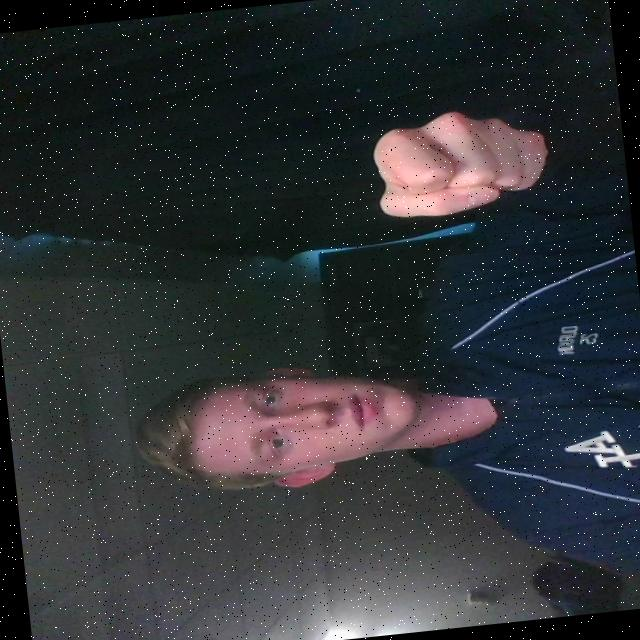rock: (354, 94, 572, 228)
